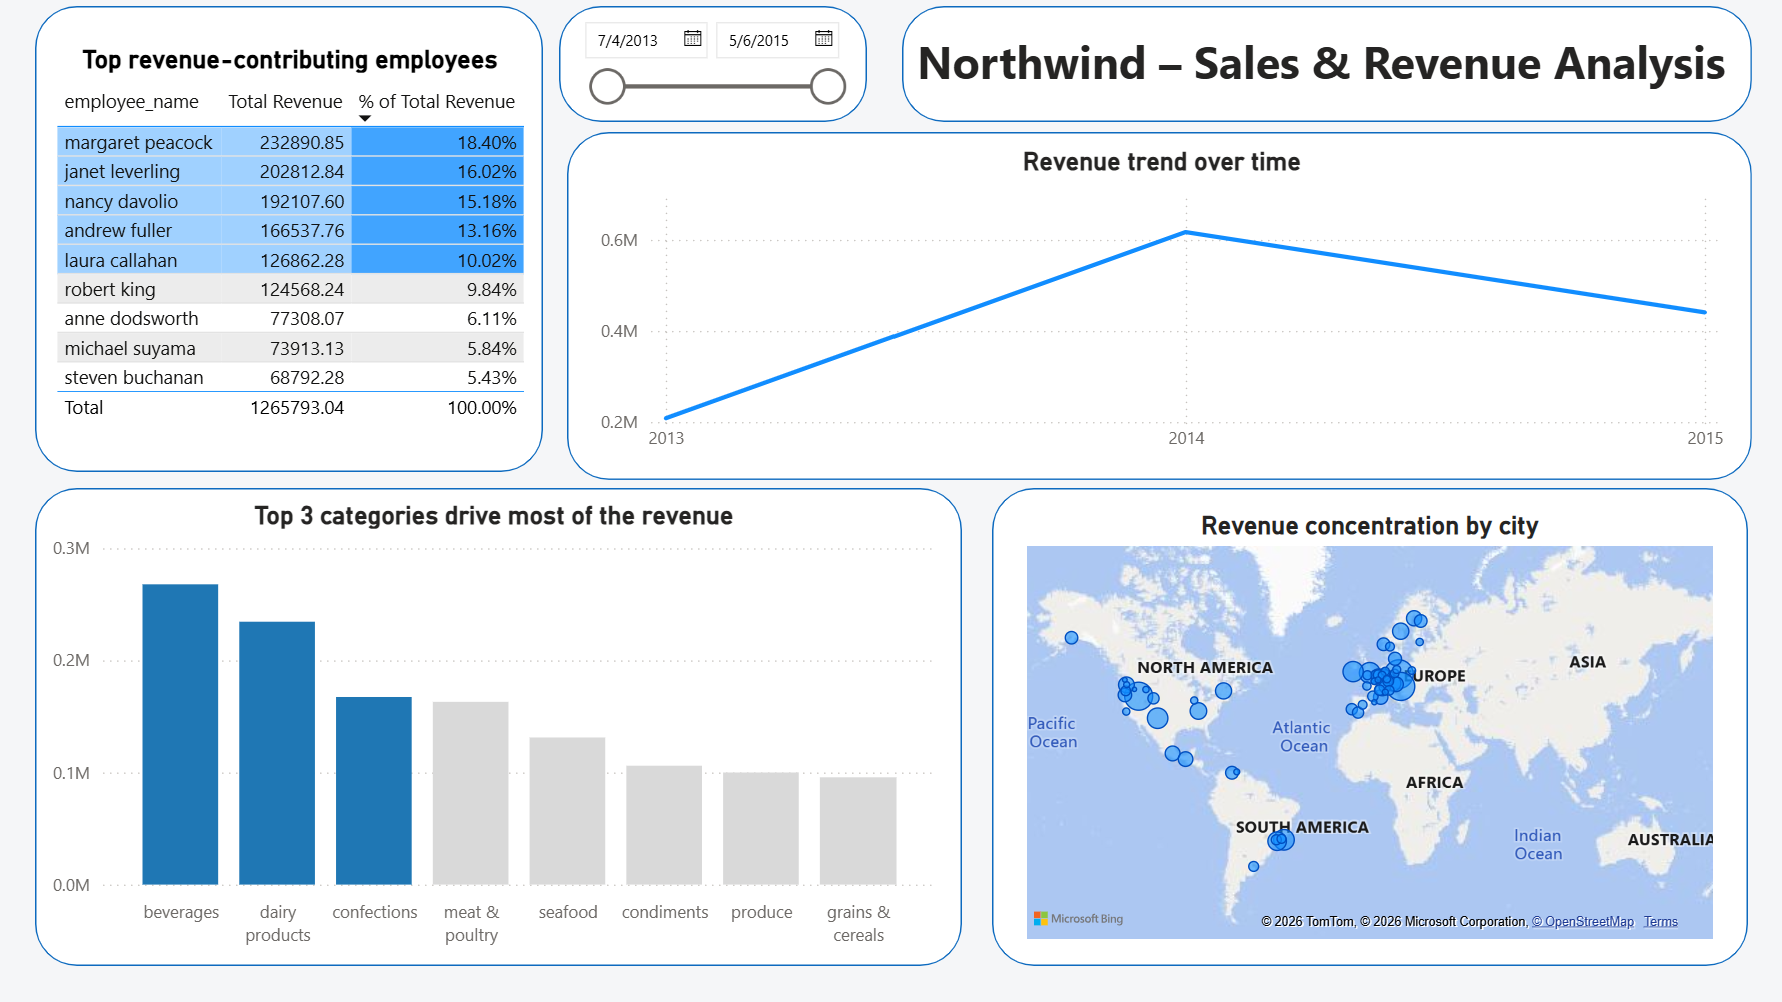

This screenshot's page, from the dashboard's own definition file:
{"tool":"powerbi","page":{"name":"Overview","canvas":[1280,720],"ordinal":0},"visuals":[{"type":"shape","box":[647.1,5.7,607.1,82.9],"z":0},{"type":"shape","box":[402.9,5.7,220,82.9],"z":1000},{"type":"shape","box":[408.6,95.7,845.7,248.6],"z":2000},{"type":"shape","box":[711.4,350,540,341.4],"z":3000},{"type":"shape","box":[28.6,350,661.4,341.4],"z":4000},{"type":"shape","box":[28.6,5.7,362.9,332.9],"z":5000},{"type":"map","title":"Revenue concentration by city","fields":{"Category":["dim_customer.country"],"Size":["Measure.Total Revenue"]},"box":[731.4,365.7,500,311.4],"z":6000},{"type":"lineChart","title":"Revenue trend over time","fields":{"Category":["fact_orders.order_date.Variation.Date Hierarchy.Year"],"Y":["Measure.Total Revenue"]},"box":[427.1,105.7,811.4,227.1],"z":7000},{"type":"slicer","fields":{"Values":["fact_orders.order_date"]},"box":[408.6,7.1,207.1,81.4],"z":8000},{"type":"clusteredColumnChart","title":"Top 3 categories drive most of the revenue","fields":{"Category":["dim_categories.category_name"],"Y":["fact_order_details.Total Revenue"]},"box":[35.7,358.6,641.4,325.7],"z":9000},{"type":"tableEx","title":"Top revenue-contributing employees","fields":{"Values":["dim_employees.employee_name","fact_order_details.Total Revenue","fact_order_details.Revenue %"]},"box":[38.6,32.9,344.3,280],"z":10000},{"type":"textbox","box":[652.9,18.6,595.7,57.1],"z":11000}]}

Visuals, with their boxes in screenshot pixels (x1, y1, x2, y2), scaled from the page's 1280x720 canvas onto the 1782x1002 screenshot:
shape: 901 8 1746 123
shape: 561 8 867 123
shape: 569 133 1746 479
shape: 990 487 1742 962
shape: 40 487 961 962
shape: 40 8 545 471
"Revenue concentration by city" map: 1018 509 1714 942
"Revenue trend over time" lineChart: 595 147 1724 463
slicer - fact_orders.order_date: 569 10 857 123
"Top 3 categories drive most of the revenue" clusteredColumnChart: 50 499 943 952
"Top revenue-contributing employees" tableEx: 54 46 533 435
textbox: 909 26 1738 105
